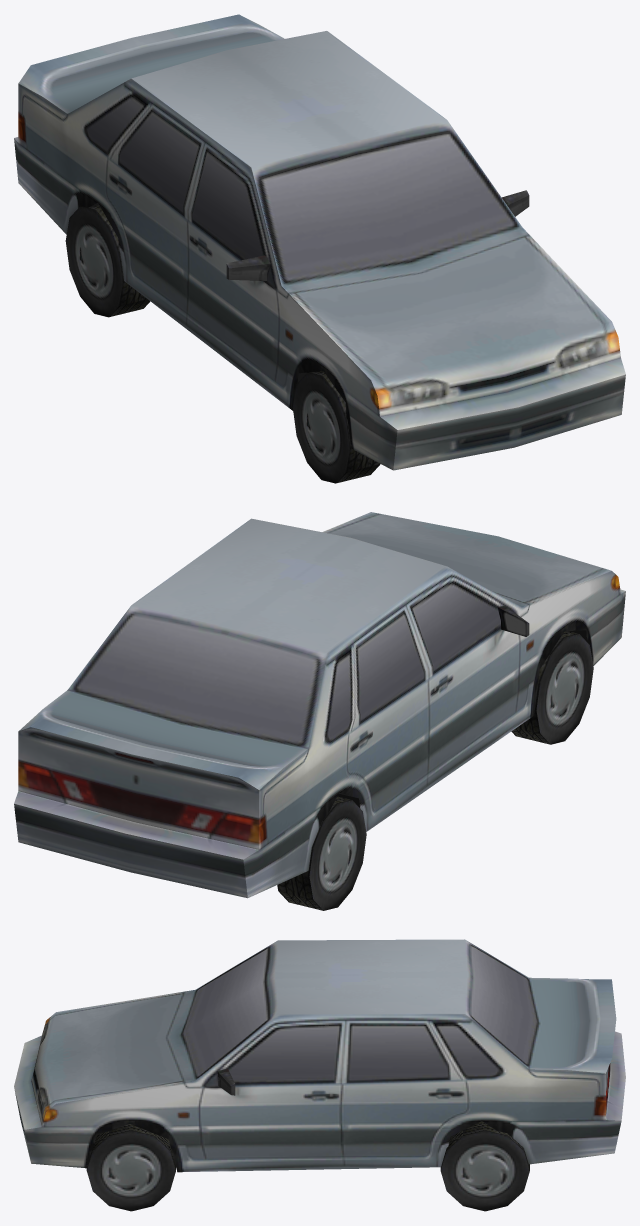
File: lada_gray.glb
3 renders of one model, top to bottom at view 1: azimuth 30°, elevation 25°; view 2: azimuth 150°, elevation 25°; view 3: azimuth 270°, elevation 25°, orthographic. The views are drawn at different scales.
Visible parts, largest first — view 1: _MeshInstance3D_42, _MeshInstance3D_44, _MeshInstance3D_45; view 2: _MeshInstance3D_42, _MeshInstance3D_45, _MeshInstance3D_44; view 3: _MeshInstance3D_42, _MeshInstance3D_43, _MeshInstance3D_46.
Part boxes in pixels (x1,y1,x2,y2): _MeshInstance3D_42: (14, 14, 625, 470); _MeshInstance3D_44: (292, 371, 380, 483); _MeshInstance3D_45: (65, 205, 150, 317); _MeshInstance3D_42: (14, 512, 625, 898); _MeshInstance3D_45: (277, 796, 366, 910); _MeshInstance3D_44: (511, 631, 593, 744); _MeshInstance3D_42: (14, 939, 625, 1172); _MeshInstance3D_43: (86, 1124, 175, 1211); _MeshInstance3D_46: (440, 1121, 529, 1211).
Size of the model in its own units: 1.85 by 1.43 by 4.2.
2 materials, 1 textured.
